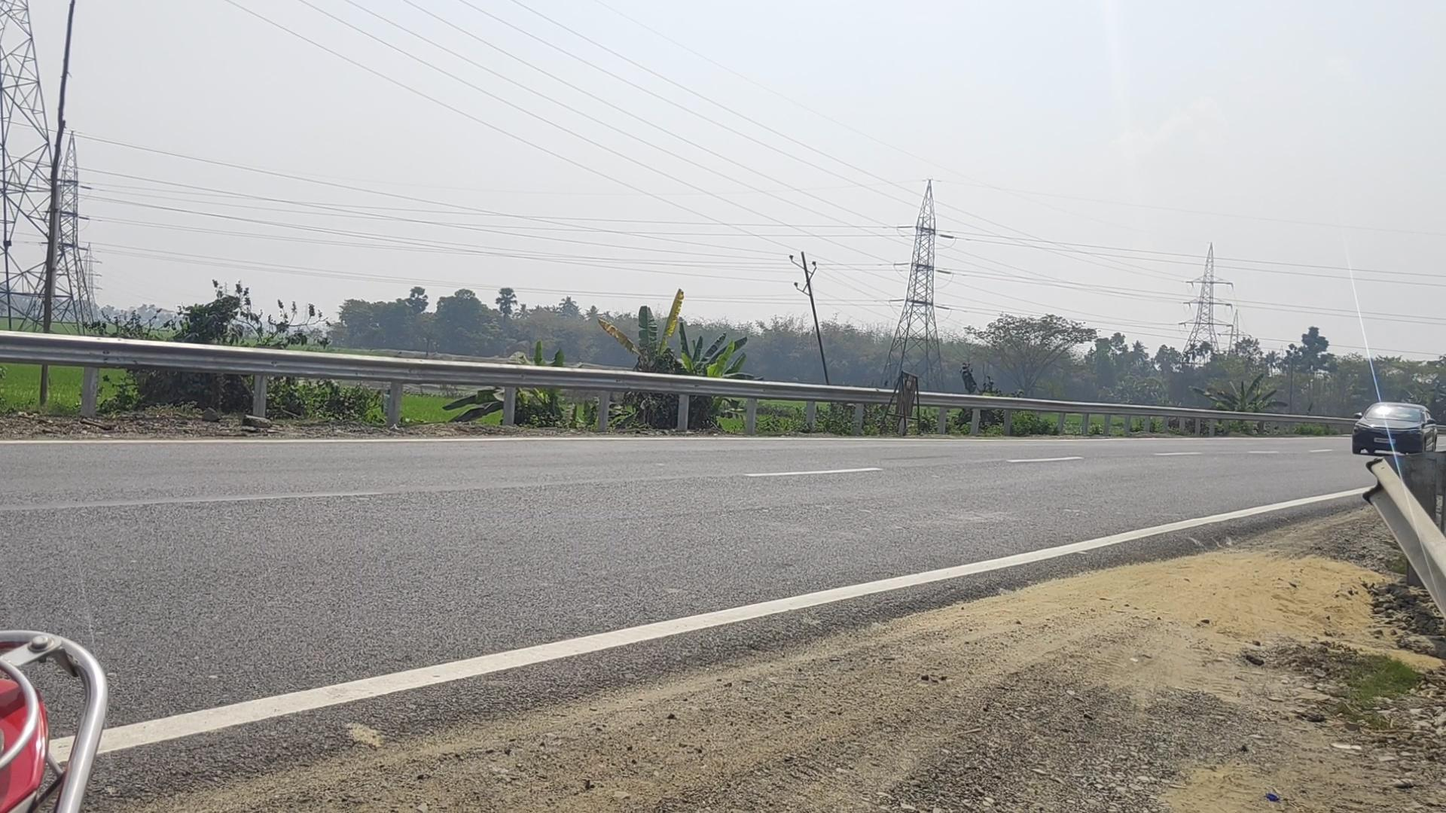car: (1351, 402, 1436, 458)
